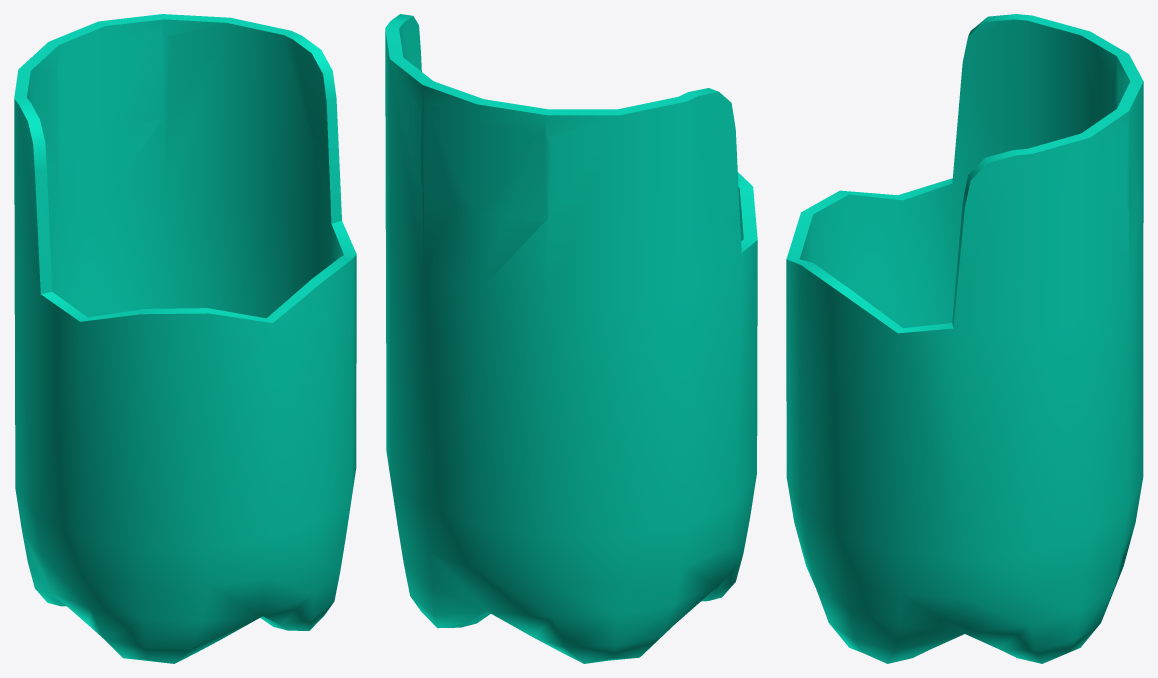
3 renders of one model, left to right at view 1: azimuth 30°, elevation 25°; view 2: azimuth 150°, elevation 25°; view 3: azimuth 270°, elevation 25°, orthographic. The views are drawn at different scales.
Visible parts, largest first — view 1: New Water Bottle 04 Mobile Stand, 04 Cut Area; view 2: New Water Bottle 04 Mobile Stand, 04 Cut Area; view 3: New Water Bottle 04 Mobile Stand, 04 Cut Area.
Boxes of the visible parts, x1,y1,x2,y2 form: New Water Bottle 04 Mobile Stand: (14, 14, 356, 663); 04 Cut Area: (54, 36, 174, 144); New Water Bottle 04 Mobile Stand: (385, 14, 757, 663); 04 Cut Area: (420, 105, 551, 222); New Water Bottle 04 Mobile Stand: (786, 14, 1143, 663); 04 Cut Area: (1111, 73, 1143, 210).
Size of the model in its own units: 0.1354 by 0.2264 by 0.1356.
